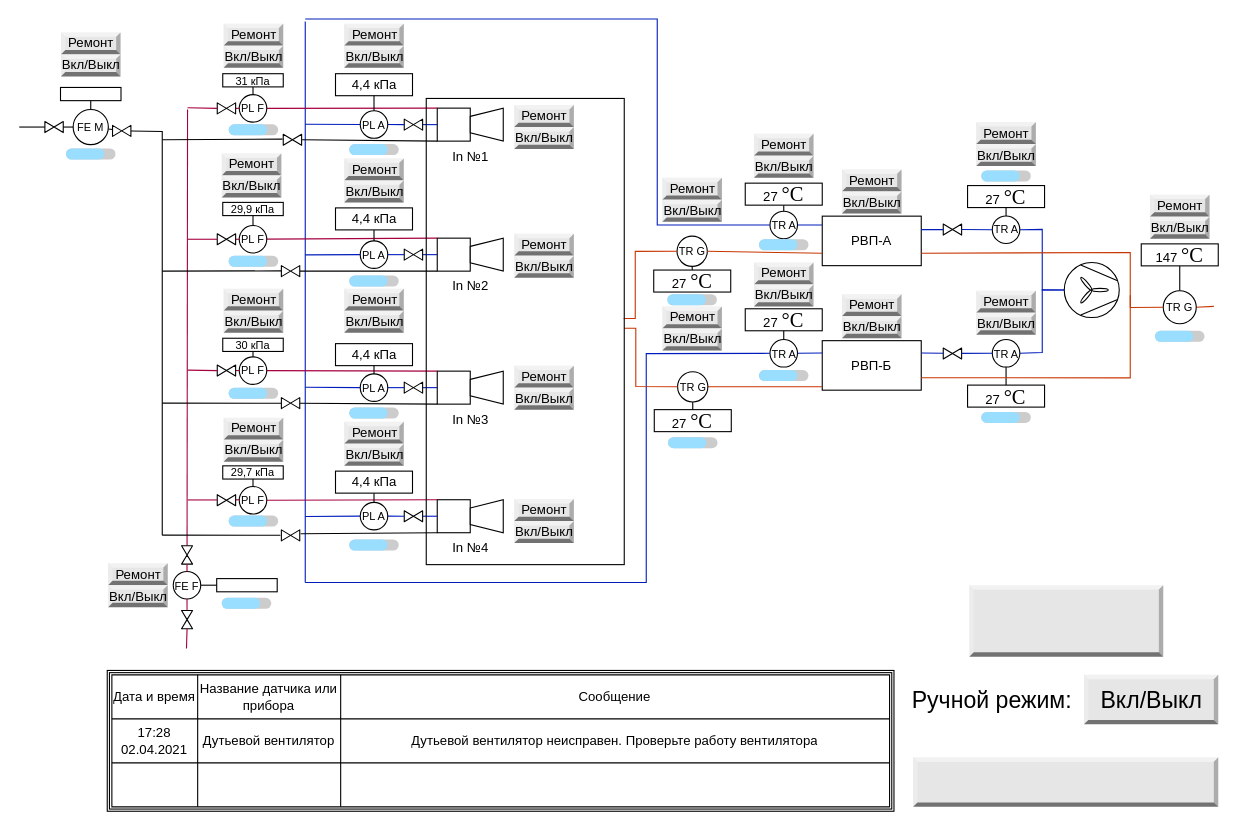
Image size: 1238x832. Some labels were removed from this diagram. The shapes that lost their labels are listed below. From the top down, each one's centre as x and y in pixels, then its label:
At point 90,93: "0,6 МПа".
At point 246,585: "0,5 МПа".
At point 1066,620: "Задать параметры датчиков".
At point 1065,781: "Архив данных".
